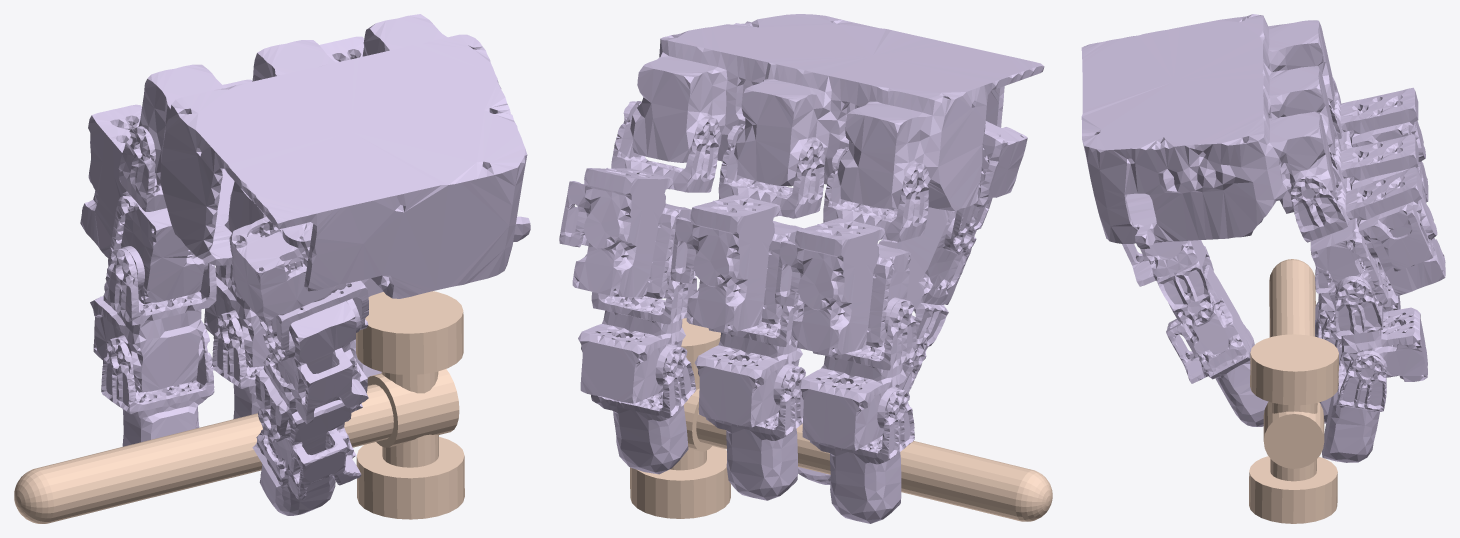
File: 52afc7448e348d-closed.glb
The picture shows the model from 3 angles, left to right: view 1: azimuth 30°, elevation 25°; view 2: azimuth 150°, elevation 25°; view 3: azimuth 270°, elevation 25°; orthographic projection. The views are drawn at different scales.
Parts seen in each view (by area): view 1: LEAP_hand, world; view 2: LEAP_hand, world; view 3: LEAP_hand, world.
Boxes of the visible parts, bbox=[...] form: LEAP_hand: bbox=[80, 14, 530, 515]; world: bbox=[14, 291, 464, 523]; LEAP_hand: bbox=[559, 14, 1044, 523]; world: bbox=[630, 318, 1052, 521]; LEAP_hand: bbox=[1081, 14, 1445, 462]; world: bbox=[1249, 259, 1338, 523].
Size of the model in its own units: 0.1791 by 0.1842 by 0.1561.
